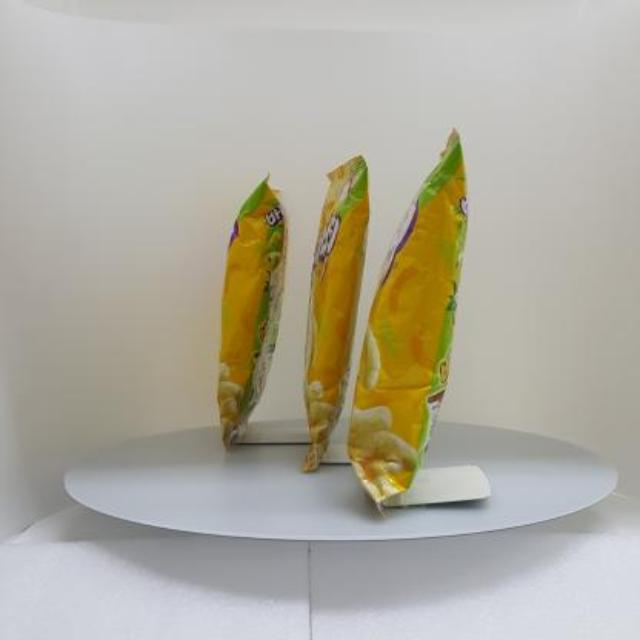snack_bag: (201, 120, 491, 520)
